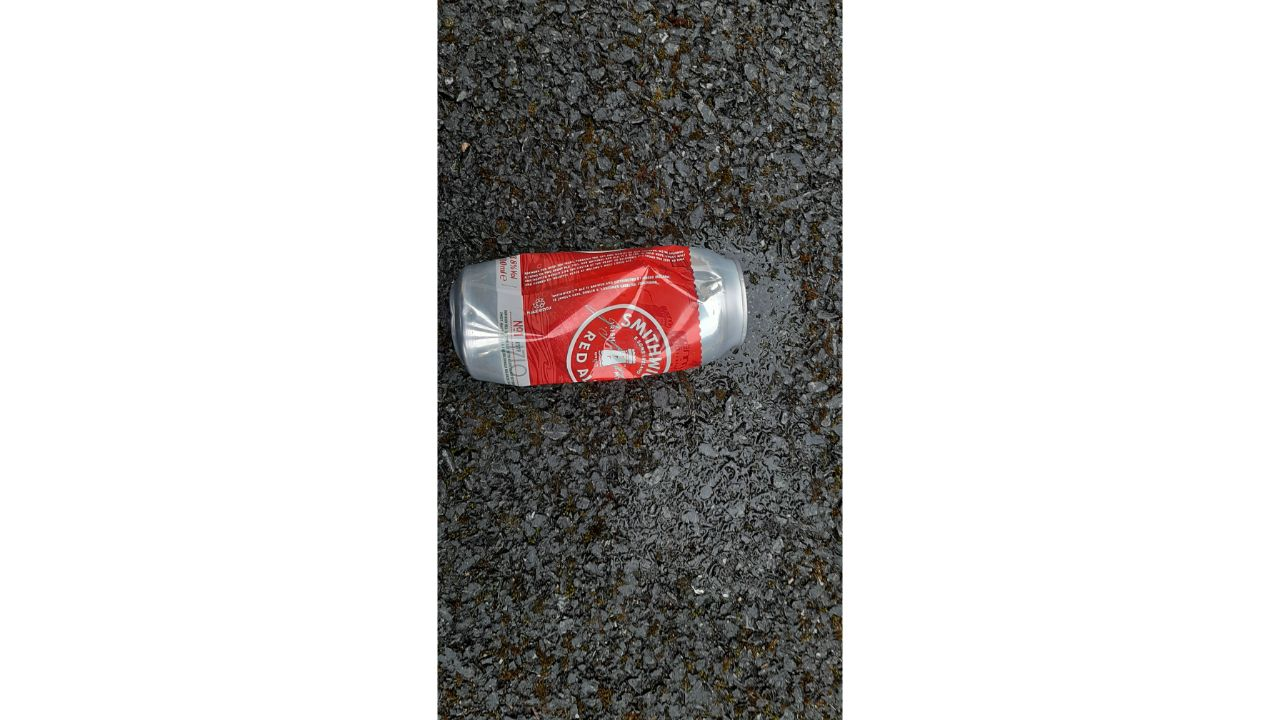Can: (447, 244, 749, 385)
